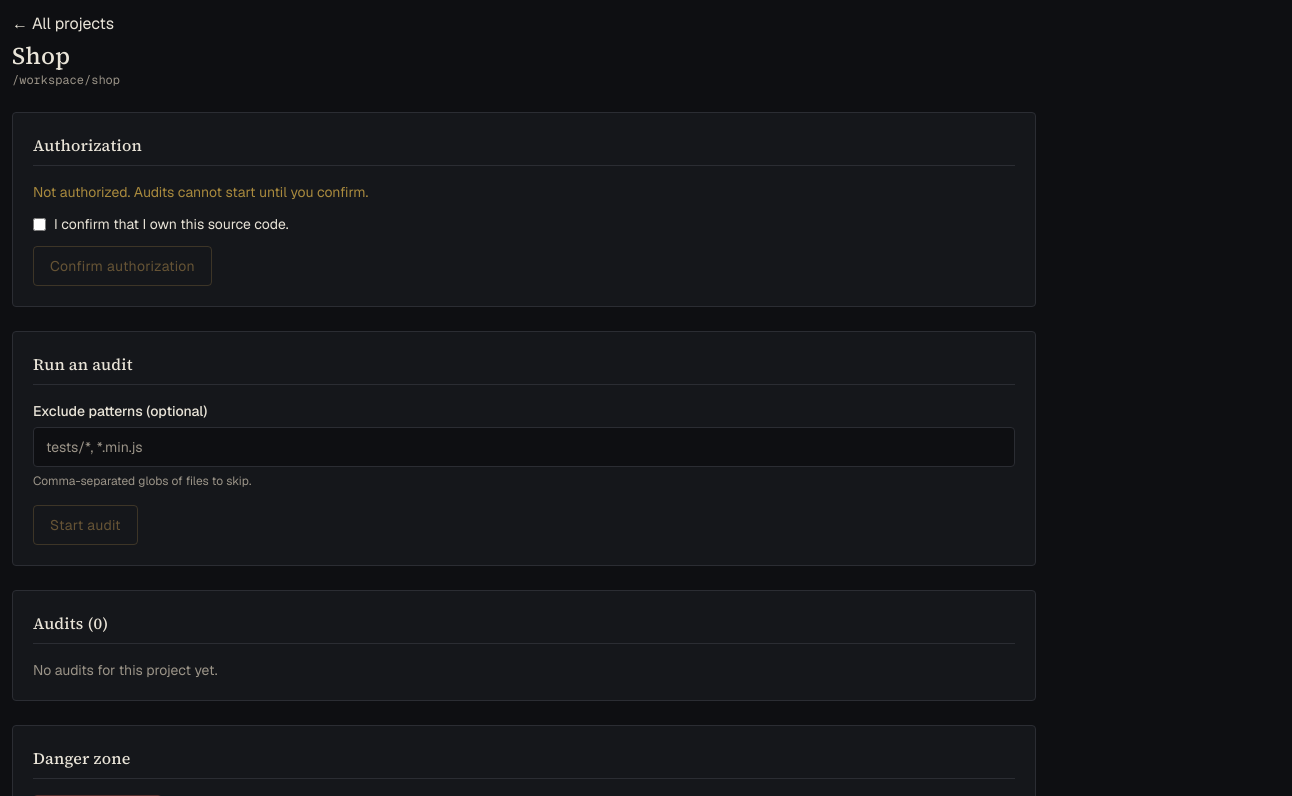
Test case: ProjectPage › blocks auditing until authorization is confirmed
The image size is (1292, 796).
Expected: the button "Start audit" is disabled, [33,505,138,545]
Expected: the button "Confirm authorization" is disabled, [33,246,212,286]
Click the checkbox.
click(40, 224)  # box [33,218,46,231]
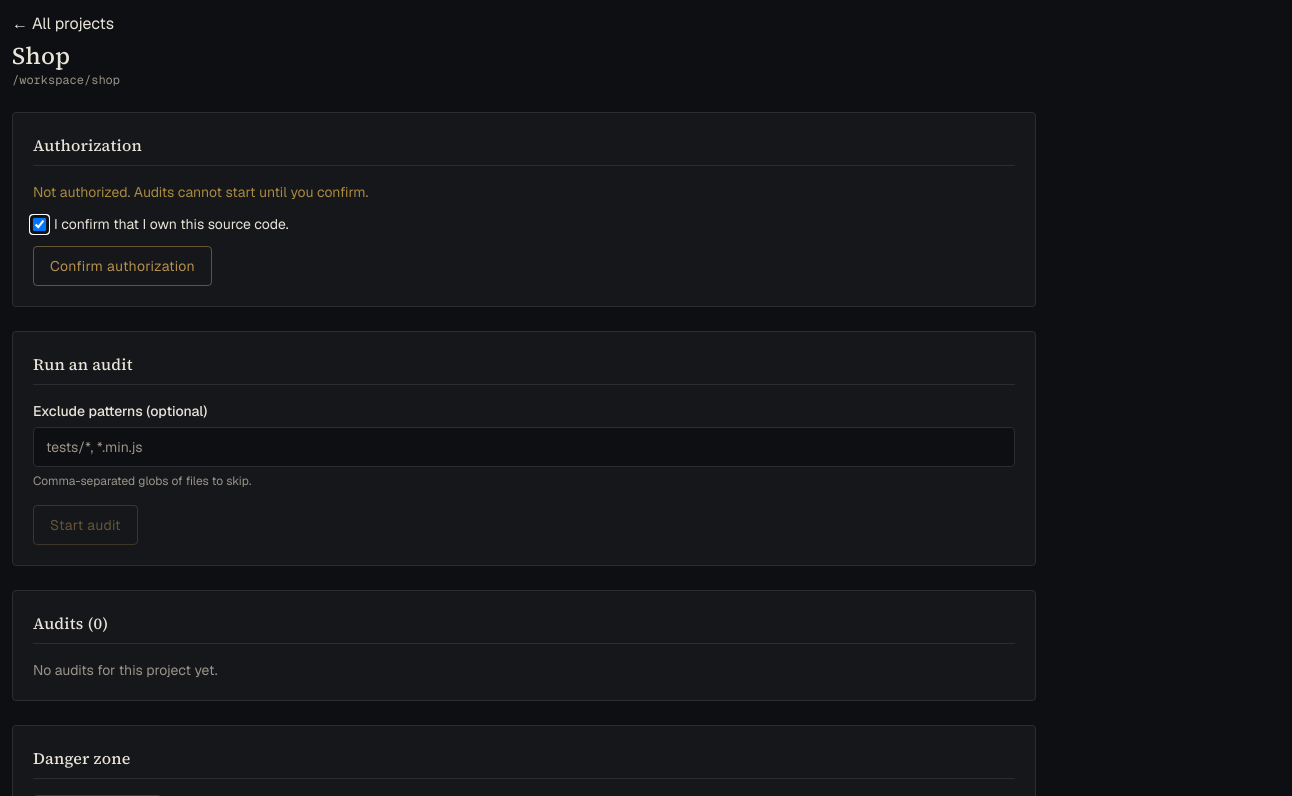
Result: the button "Confirm authorization" is enabled at [33,246,212,286]
